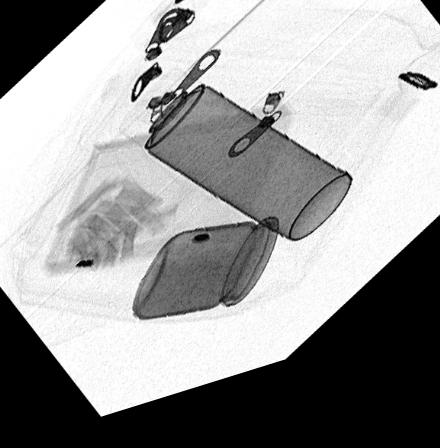Sprayer: (118, 78, 351, 259)
